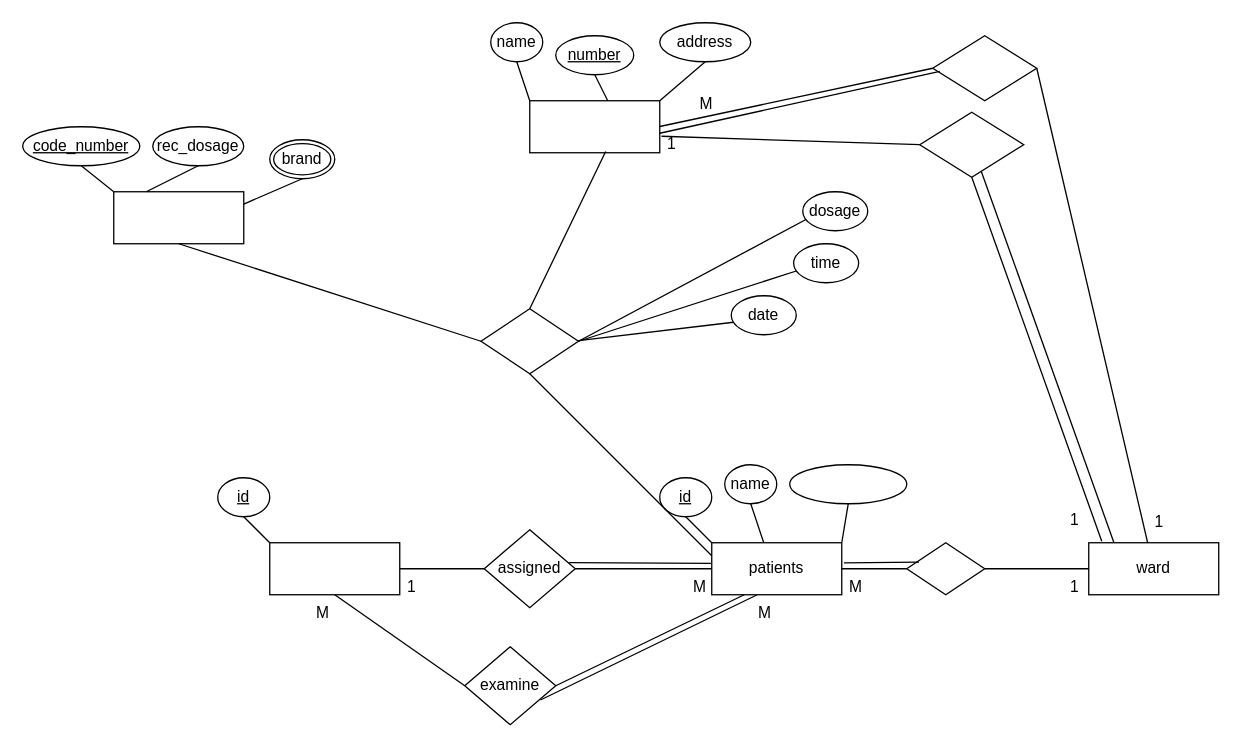
Some shapes in this 1242 by 748 pixel diagram are drawn without their labels. Here are the shapes that lost their labels. From the top down, the box of each, then its label:
(931, 34, 1037, 101): serve
(528, 99, 660, 153): nurse
(918, 111, 1024, 177): supervise
(112, 190, 244, 244): drug
(480, 307, 578, 374): gives
(788, 463, 907, 504): date_of_birth
(268, 541, 400, 595): consultant
(905, 541, 985, 595): host
